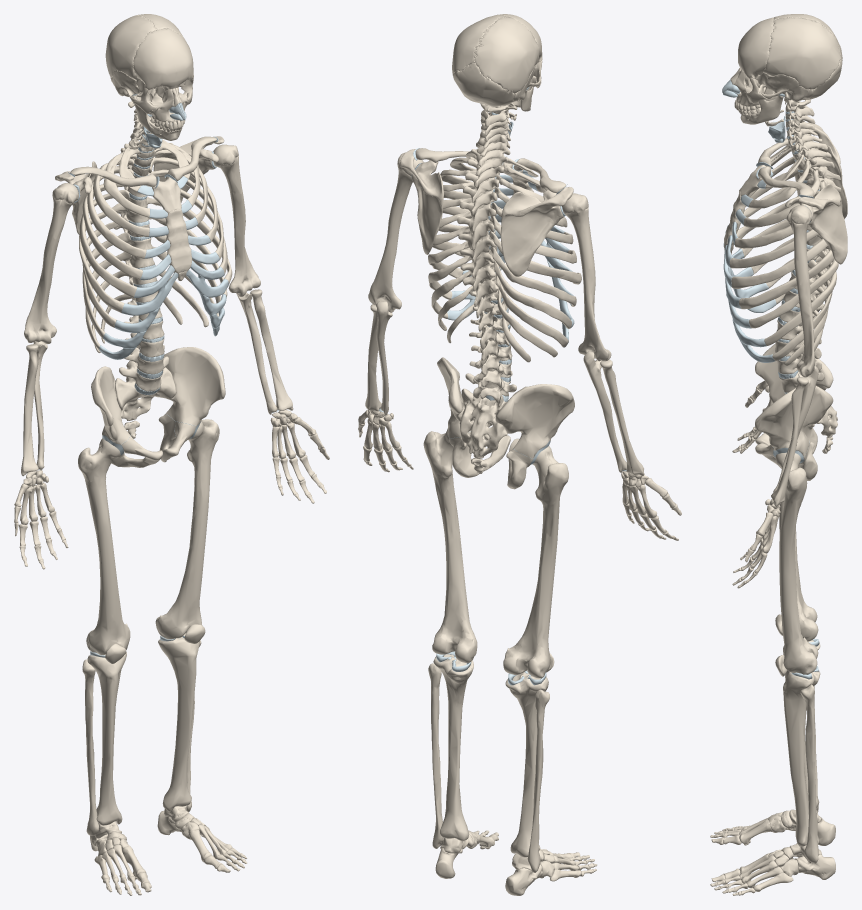
File: squelette.glb
3 views of the same model, side by side, from view 1: azimuth 30°, elevation 25°; view 2: azimuth 150°, elevation 25°; view 3: azimuth 270°, elevation 25° (orthographic). The views are drawn at different scales.
Visible parts, largest first — view 1: Femur.r, Femur.l, Hip bone.l, Tibia.l, Frontal bone, Tibia.r, Humerus.r, Humerus.l, Hip bone.r, Parietal bone.r, Sacrum, Fibula.r (+18 smaller); view 2: Femur.r, Femur.l, Hip bone.r, Scapula.r, Parietal bone.r, Tibia.l, Tibia.r, Humerus.r, Humerus.l, Hip bone.l, Scapula.l, Sacrum (+15 smaller); view 3: Femur.l, Parietal bone.l, Hip bone.l, Tibia.l, Humerus.l, Scapula.l, Fibula.l, Frontal bone, Hip bone.r, Radius.l, Femur.r, Seventh rib.l (+27 smaller).
Boxes of the visible parts, <box> form: Femur.r: <box>78,438,130,655</box>; Femur.l: <box>155,419,219,639</box>; Hip bone.l: <box>158,347,225,462</box>; Tibia.l: <box>158,633,200,811</box>; Frontal bone: <box>133,28,193,91</box>; Tibia.r: <box>87,652,126,825</box>; Humerus.r: <box>24,183,78,344</box>; Humerus.l: <box>213,144,260,296</box>; Hip bone.r: <box>91,366,162,467</box>; Parietal bone.r: <box>105,15,157,79</box>; Sacrum: <box>115,367,175,420</box>; Fibula.r: <box>82,659,99,835</box>; Femur.r: <box>503,446,568,678</box>; Femur.l: <box>423,428,477,662</box>; Hip bone.r: <box>495,384,574,489</box>; Scapula.r: <box>500,187,573,276</box>; Parietal bone.r: <box>474,16,539,93</box>; Tibia.l: <box>433,654,473,840</box>; Tibia.r: <box>505,671,548,857</box>; Humerus.r: <box>562,193,611,361</box>; Humerus.l: <box>368,152,423,312</box>; Hip bone.l: <box>437,357,510,477</box>; Scapula.l: <box>400,149,443,254</box>; Sacrum: <box>459,388,507,458</box>; Femur.l: <box>775,452,818,674</box>; Parietal bone.l: <box>763,17,840,89</box>; Hip bone.l: <box>755,386,833,480</box>; Tibia.l: <box>783,671,820,846</box>; Humerus.l: <box>786,205,815,377</box>; Scapula.l: <box>785,183,847,264</box>; Fibula.l: <box>800,684,818,863</box>; Frontal bone: <box>738,17,774,78</box>; Hip bone.r: <box>755,343,833,453</box>; Radius.l: <box>771,377,808,506</box>; Femur.r: <box>779,470,818,641</box>; Seventh rib.l: <box>739,249,834,309</box>.
Size of the model in its own units: 0.6692 by 1.7 by 0.2501.
